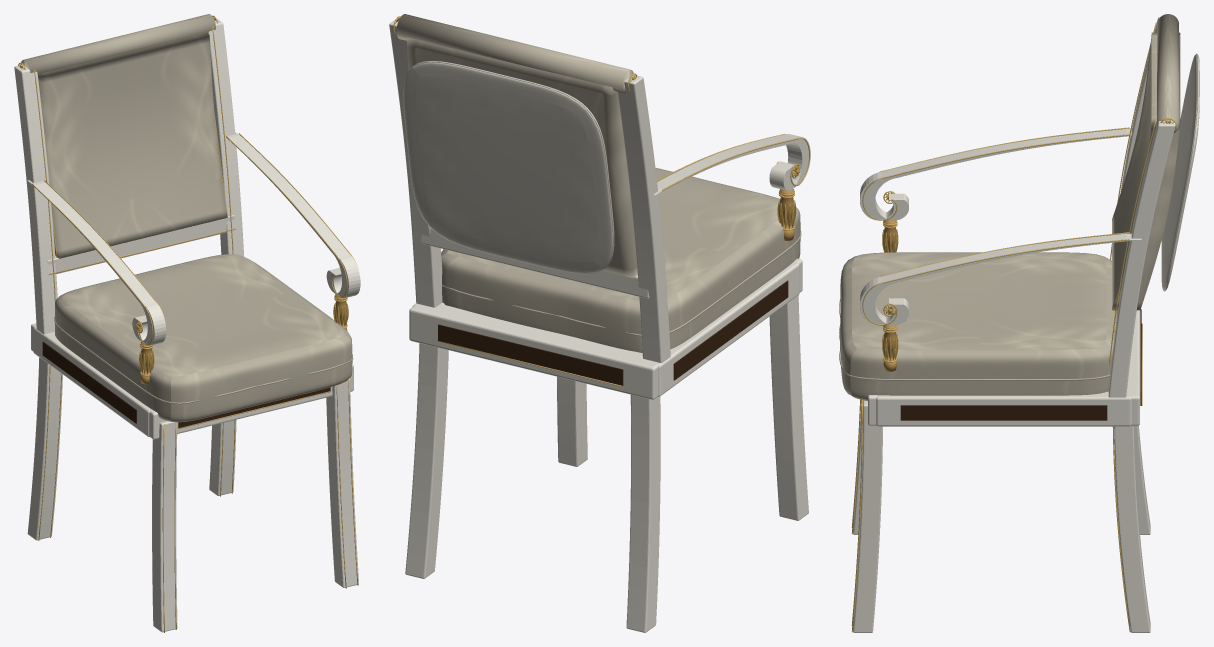
The picture shows the model from 3 angles, left to right: view 1: azimuth 30°, elevation 25°; view 2: azimuth 150°, elevation 25°; view 3: azimuth 270°, elevation 25°; orthographic projection. The views are drawn at different scales.
Parts seen in each view (by area): view 1: Belgravia dining armchair | 50035.0 | dining-18 web batch; view 2: Belgravia dining armchair | 50035.0 | dining-18 web batch; view 3: Belgravia dining armchair | 50035.0 | dining-18 web batch.
Boxes of the visible parts, x1,y1,x2,y2 form: Belgravia dining armchair | 50035.0 | dining-18 web batch: (14,14,360,632); Belgravia dining armchair | 50035.0 | dining-18 web batch: (389,14,810,632); Belgravia dining armchair | 50035.0 | dining-18 web batch: (839,14,1199,632).
Size of the model in its own units: 0.47 by 0.98 by 0.62.
Materials: 7 (1 with a texture image).
